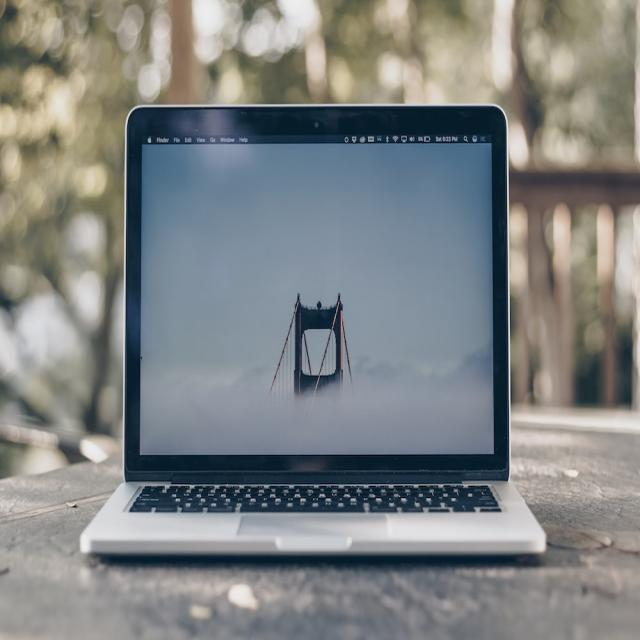keyboard: (92, 482, 532, 540)
